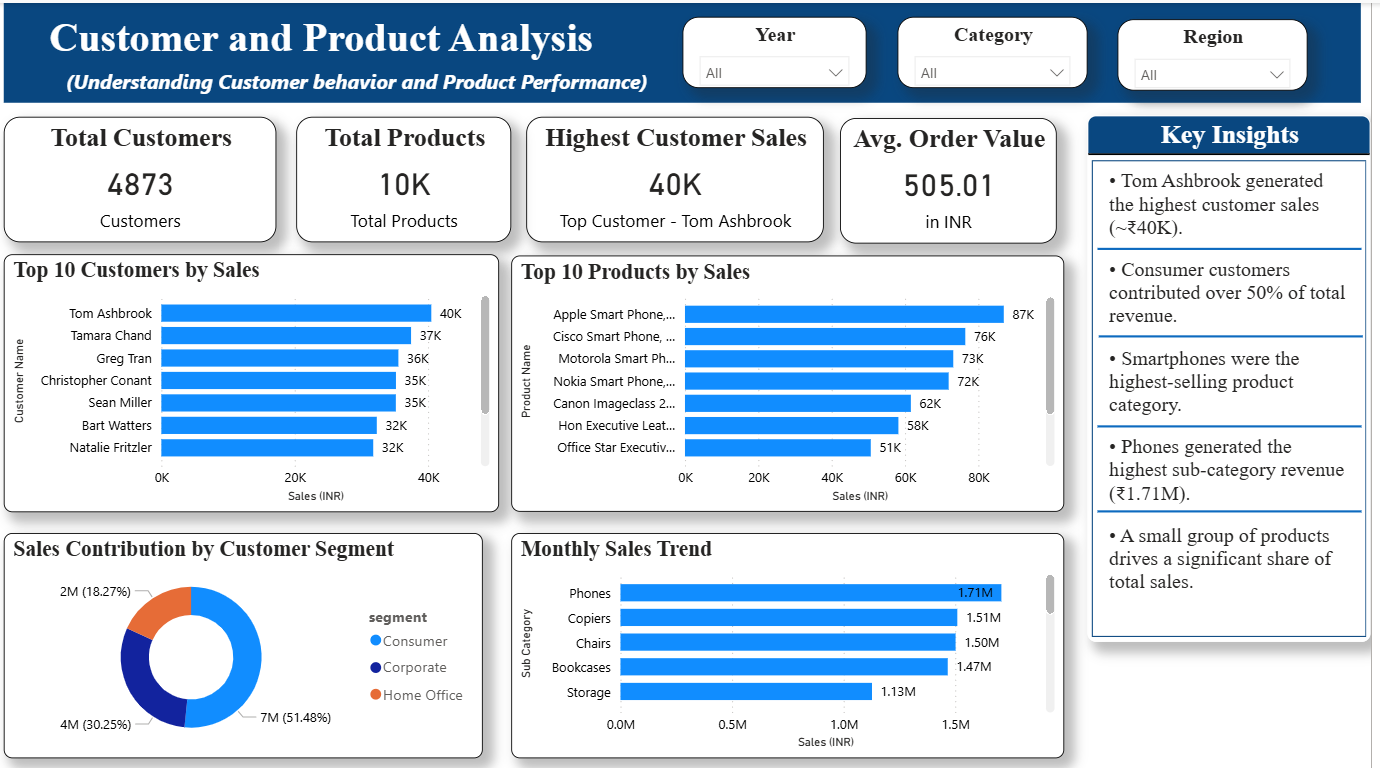

This screenshot's page, from the dashboard's own definition file:
{"tool":"powerbi","page":{"name":"Customer & Product Analysis","canvas":[1280,720],"ordinal":1},"visuals":[{"type":"card","title":"Highest Customer Sales","fields":{"Values":["superstore_cleaned_complete.Top Customer Sales"]},"box":[494,105.7,277.2,116.6],"z":0},{"type":"card","title":"Total Customers","fields":{"Values":["superstore_cleaned_complete.Total Customers"]},"box":[8.2,105.7,253.9,116.6],"z":1000},{"type":"card","title":"Total Products","fields":{"Values":["superstore_cleaned_complete.Total Products"]},"box":[279.9,105.7,200.3,116.6],"z":2000},{"type":"slicer","title":"Region","fields":{"Values":["superstore_cleaned_complete.region"]},"box":[1046.5,12.8,173.3,68.6],"z":3000},{"type":"textbox","box":[8.1,0,1262.8,93],"z":4000},{"type":"slicer","title":"Year","fields":{"Values":["superstore_cleaned_complete.order_year"]},"box":[639.5,12.8,170.9,66.3],"z":5000},{"type":"slicer","title":"Category","fields":{"Values":["superstore_cleaned_complete.category"]},"box":[839.5,12.8,176.7,66.3],"z":6000},{"type":"card","title":"Avg. Order Value","fields":{"Values":["superstore_cleaned_complete.Average Order Value"]},"box":[786.3,107,201.7,116.6],"z":7000},{"type":"slicer","title":"Region","fields":{"Values":["superstore_cleaned_complete.region"]},"box":[1044.2,15.1,176.7,66.3],"z":8000},{"type":"clusteredBarChart","title":"Monthly Sales Trend","fields":{"Category":["superstore_cleaned_complete.sub_category"],"Y":["Sum(superstore_cleaned_complete.sales)"]},"box":[480.3,492.6,514.6,209.9],"z":9000},{"type":"clusteredBarChart","title":"Top 10 Customers by Sales","fields":{"Y":["Sum(superstore_cleaned_complete.sales)"],"Category":["superstore_cleaned_complete.customer_name"]},"box":[8.2,233.3,461.1,240.1],"z":10000},{"type":"clusteredBarChart","title":"Top 10 Products by Sales","fields":{"Y":["Sum(superstore_cleaned_complete.sales)"],"Category":["superstore_cleaned_complete.product_name"]},"box":[480.3,234.6,514.6,238.8],"z":11000},{"type":"donutChart","title":"Sales Contribution by Customer Segment","fields":{"Category":["superstore_cleaned_complete.segment"],"Y":["Sum(superstore_cleaned_complete.sales)"]},"box":[8.2,492.6,446,209.9],"z":12000},{"type":"shape","title":"Key Insights   ","box":[1016.8,104.3,263.5,489.9],"z":13000},{"type":"textbox","box":[1031.9,149.6,233.3,426.8],"z":14000},{"type":"shape","box":[1025,223.7,245.6,11],"z":15000},{"type":"shape","box":[1026.4,304.6,245.6,11],"z":16000},{"type":"shape","box":[1025,388.3,245.6,11],"z":17000},{"type":"shape","box":[1025,467.9,245.6,11],"z":18000}]}

Visuals, with their boxes in screenshot pixels (x1, y1, x2, y2), scaled from the page's 1280x720 canvas onto the 1380x768 screenshot:
"Highest Customer Sales" card: {"x1": 533, "y1": 113, "x2": 831, "y2": 237}
"Total Customers" card: {"x1": 9, "y1": 113, "x2": 283, "y2": 237}
"Total Products" card: {"x1": 302, "y1": 113, "x2": 518, "y2": 237}
"Region" slicer: {"x1": 1128, "y1": 14, "x2": 1315, "y2": 87}
textbox: {"x1": 9, "y1": 0, "x2": 1370, "y2": 99}
"Year" slicer: {"x1": 689, "y1": 14, "x2": 874, "y2": 84}
"Category" slicer: {"x1": 905, "y1": 14, "x2": 1096, "y2": 84}
"Avg. Order Value" card: {"x1": 848, "y1": 114, "x2": 1065, "y2": 239}
"Region" slicer: {"x1": 1126, "y1": 16, "x2": 1316, "y2": 87}
"Monthly Sales Trend" clusteredBarChart: {"x1": 518, "y1": 525, "x2": 1073, "y2": 749}
"Top 10 Customers by Sales" clusteredBarChart: {"x1": 9, "y1": 249, "x2": 506, "y2": 505}
"Top 10 Products by Sales" clusteredBarChart: {"x1": 518, "y1": 250, "x2": 1073, "y2": 505}
"Sales Contribution by Customer Segment" donutChart: {"x1": 9, "y1": 525, "x2": 490, "y2": 749}
"Key Insights   " shape: {"x1": 1096, "y1": 111, "x2": 1379, "y2": 634}
textbox: {"x1": 1113, "y1": 160, "x2": 1364, "y2": 615}
shape: {"x1": 1105, "y1": 239, "x2": 1370, "y2": 250}
shape: {"x1": 1107, "y1": 325, "x2": 1371, "y2": 337}
shape: {"x1": 1105, "y1": 414, "x2": 1370, "y2": 426}
shape: {"x1": 1105, "y1": 499, "x2": 1370, "y2": 511}
